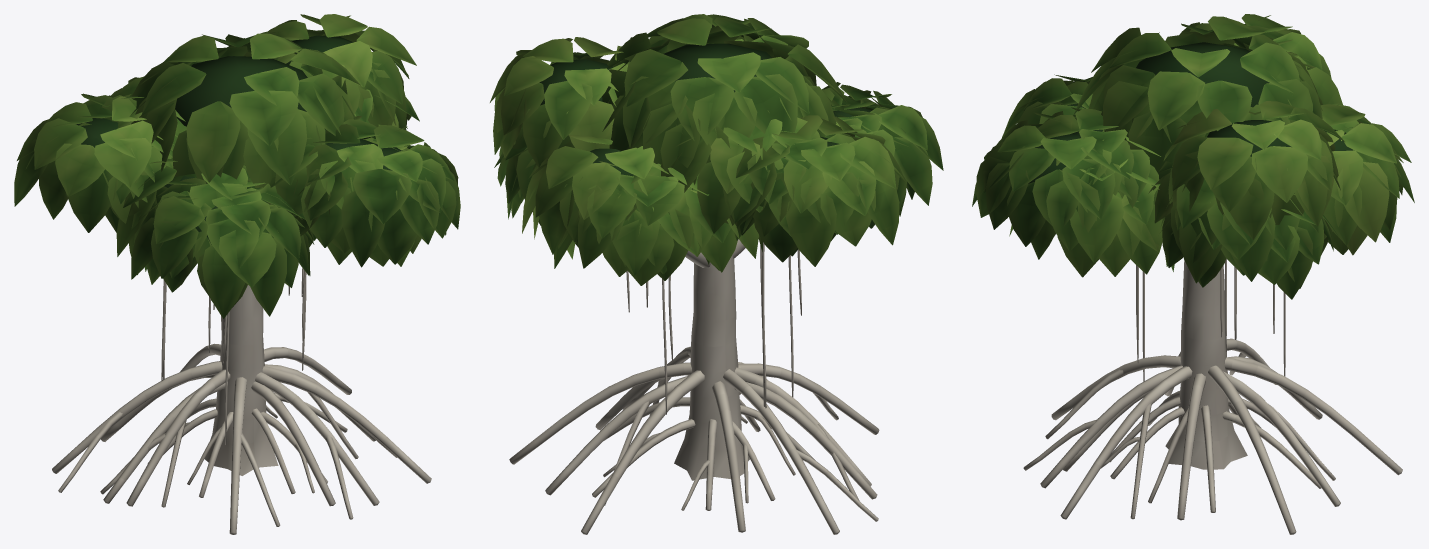
Rendered from PLN_Mangrove_Big.fbx.
3 views of the same model, side by side, from view 1: azimuth 30°, elevation 25°; view 2: azimuth 150°, elevation 25°; view 3: azimuth 270°, elevation 25° (orthographic). The views are drawn at different scales.
Parts seen in each view (by area): view 1: PLN_Mangrove_Big; view 2: PLN_Mangrove_Big; view 3: PLN_Mangrove_Big.
Boxes of the visible parts, x1=… form: PLN_Mangrove_Big: x1=14, y1=14, x2=460, y2=534; PLN_Mangrove_Big: x1=490, y1=14, x2=943, y2=534; PLN_Mangrove_Big: x1=972, y1=14, x2=1414, y2=534.
Bounding box in the file's own units: 4.64 × 4.78 × 4.53.
